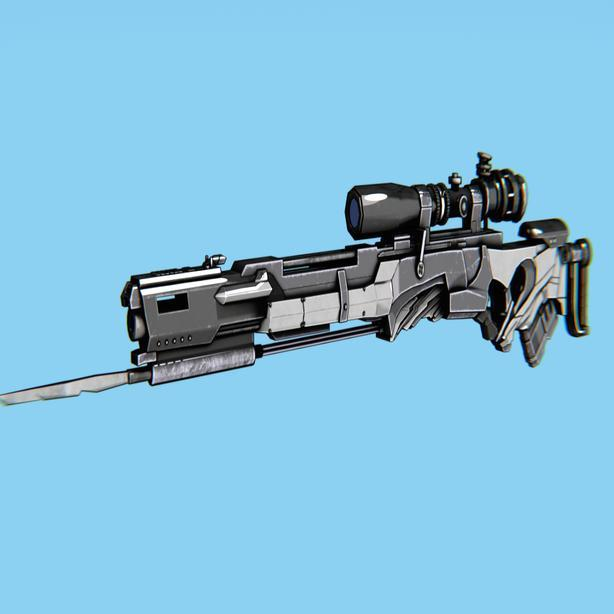Firearm: (57, 130, 602, 401)
